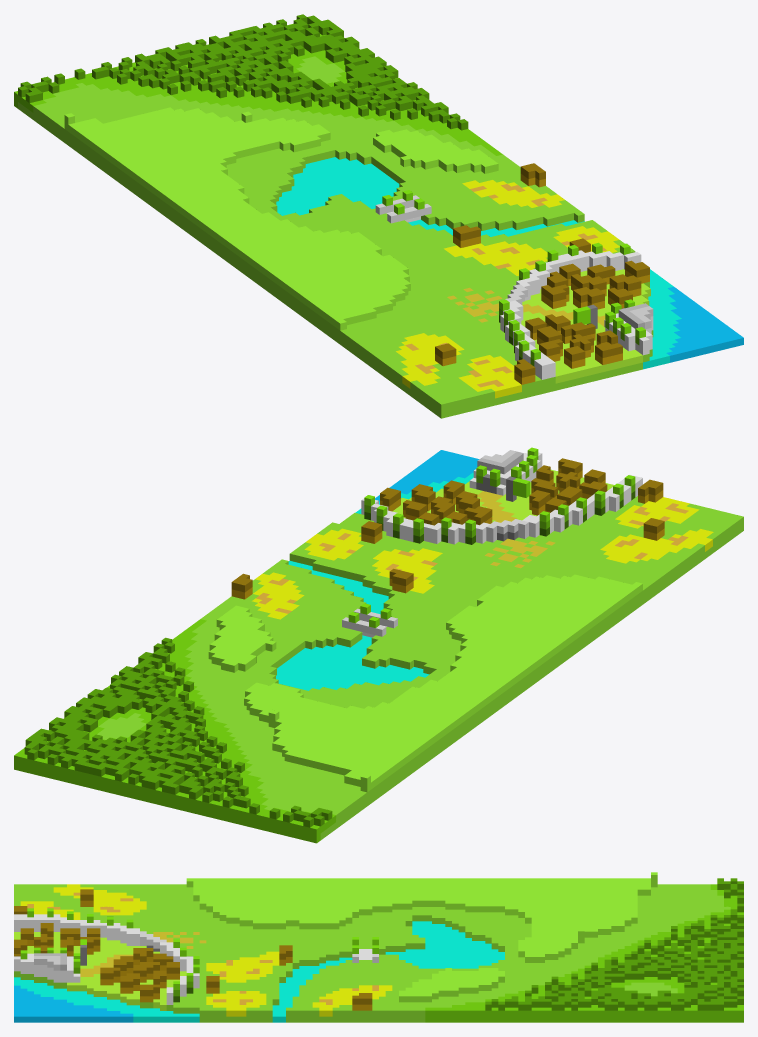
File: WarTableBoard.obj
The picture shows the model from 3 angles, top to bottom: view 1: azimuth 30°, elevation 25°; view 2: azimuth 150°, elevation 25°; view 3: azimuth 270°, elevation 25°; orthographic projection. The views are drawn at different scales.
Parts seen in each view (by area): view 1: WarTableBoard; view 2: WarTableBoard; view 3: WarTableBoard.
Part boxes in pixels (bbox=[...]): WarTableBoard: bbox=[14, 14, 743, 418]; WarTableBoard: bbox=[14, 447, 743, 843]; WarTableBoard: bbox=[14, 872, 743, 1022].
Bounding box in the file's own units: 45 × 5 × 110.
1 material, 1 textured.
